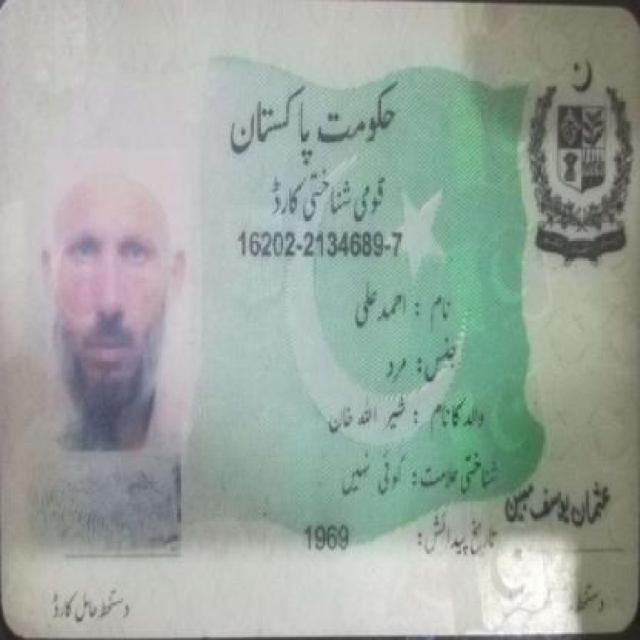Front: (4, 11, 634, 632)
